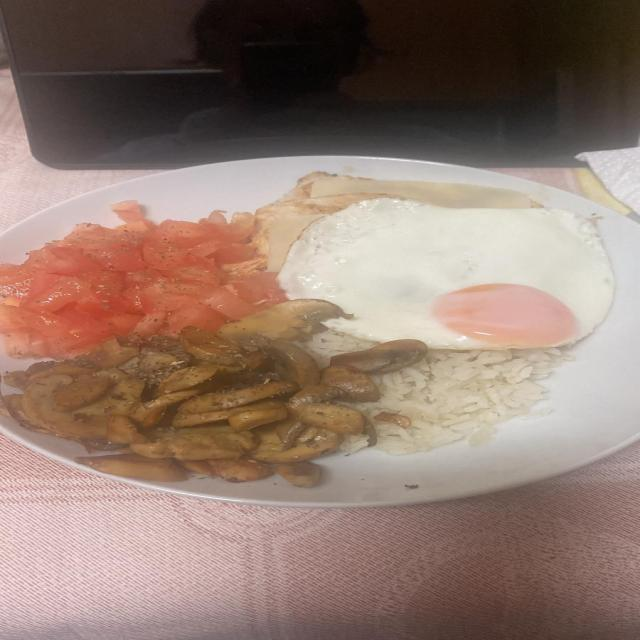chicken steak: (254, 172, 542, 272)
fried egg: (279, 199, 614, 349)
mushrooms: (6, 300, 427, 484)
plate: (0, 157, 639, 506)
rice: (365, 350, 568, 454)
tomato: (0, 201, 286, 358)
